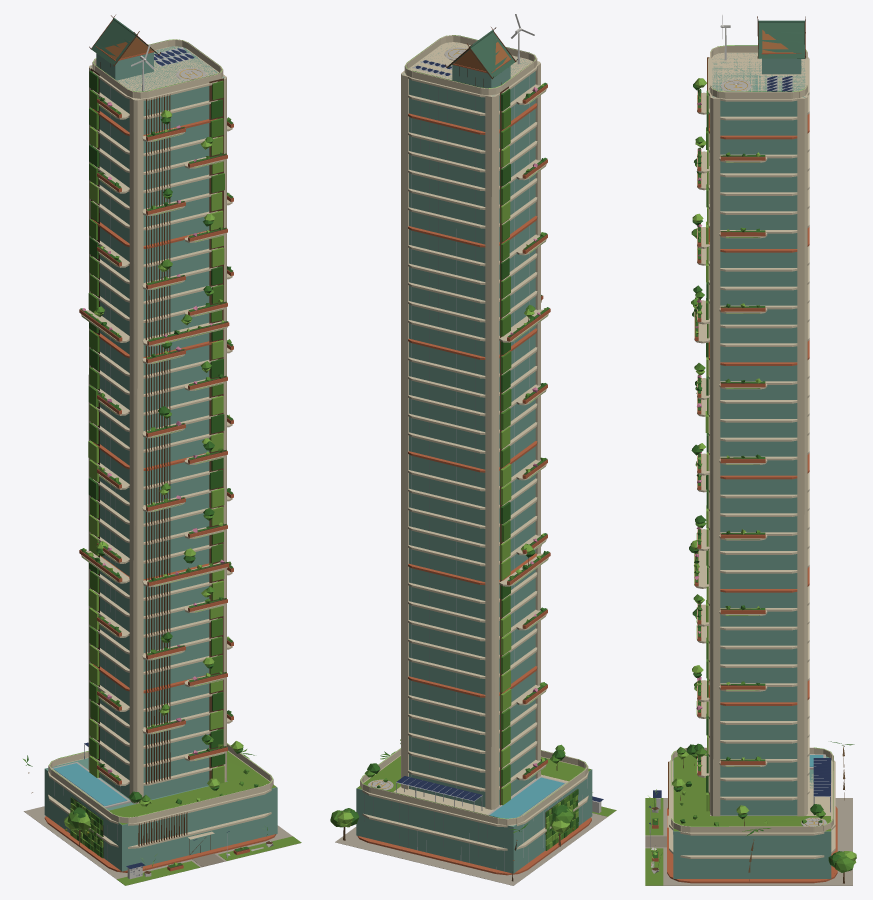
The model's file is home_5.glb.
The picture shows the model from 3 angles, left to right: view 1: azimuth 30°, elevation 25°; view 2: azimuth 150°, elevation 25°; view 3: azimuth 270°, elevation 25°; orthographic projection. The views are drawn at different scales.
Parts seen in each view (by area): view 1: body, windows; view 2: body, windows; view 3: body, windows.
Part boxes in pixels (left/top/right/bottom): body: left=23, top=15, right=301, bottom=885; windows: left=49, top=39, right=272, bottom=817; body: left=330, top=14, right=616, bottom=885; windows: left=360, top=35, right=601, bottom=818; body: left=645, top=14, right=856, bottom=885; windows: left=656, top=45, right=833, bottom=826.
Size of the model in its own units: 35.37 by 138 by 32.77.
